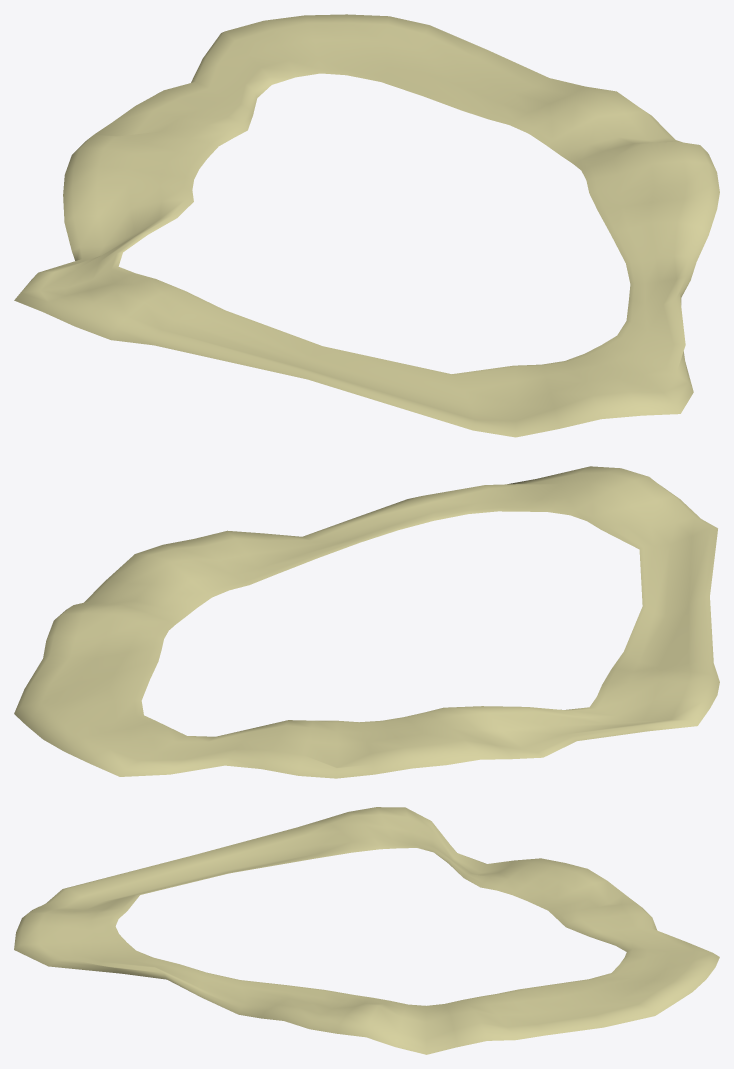
Rendered from landscape2.gltf.
The picture shows the model from 3 angles, top to bottom: view 1: azimuth 30°, elevation 25°; view 2: azimuth 150°, elevation 25°; view 3: azimuth 270°, elevation 25°; orthographic projection. The views are drawn at different scales.
Bounding box in the file's own units: 35.34 × 2.14 × 44.91.
